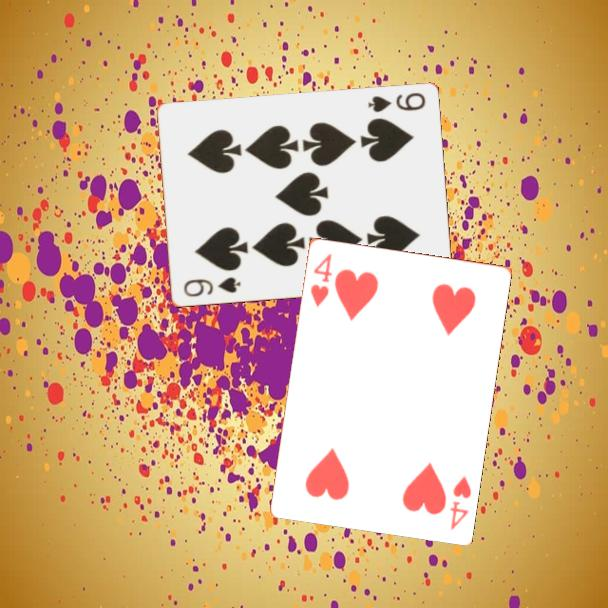h04: (446, 472, 474, 532), (307, 250, 335, 309)
s09: (364, 89, 428, 115), (180, 274, 243, 300)
